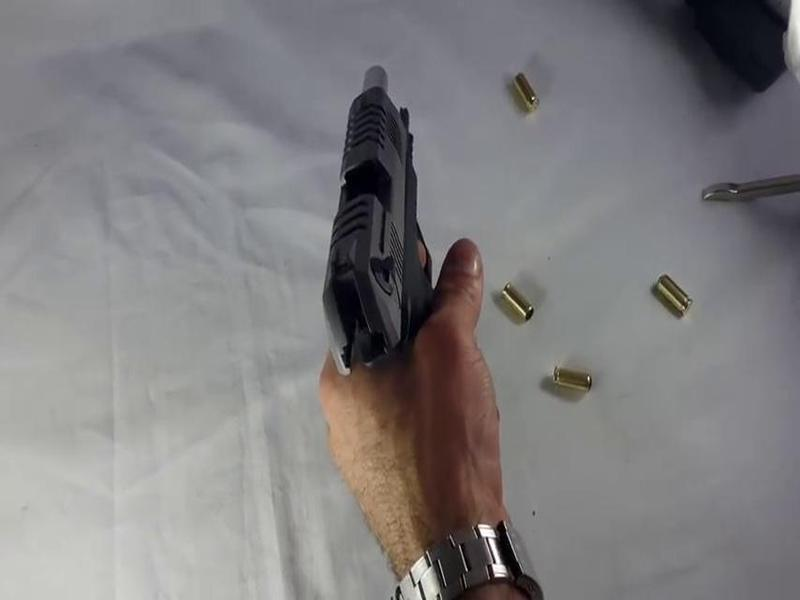Pistola: (289, 43, 453, 410)
